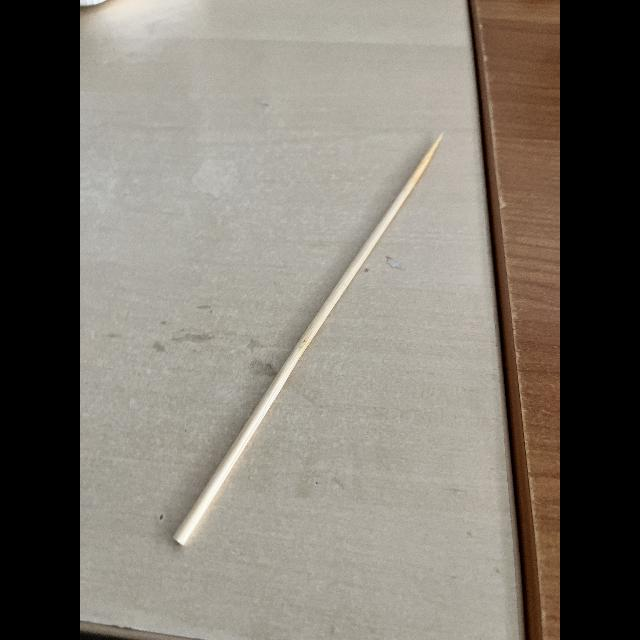stick: (172, 130, 446, 550)
